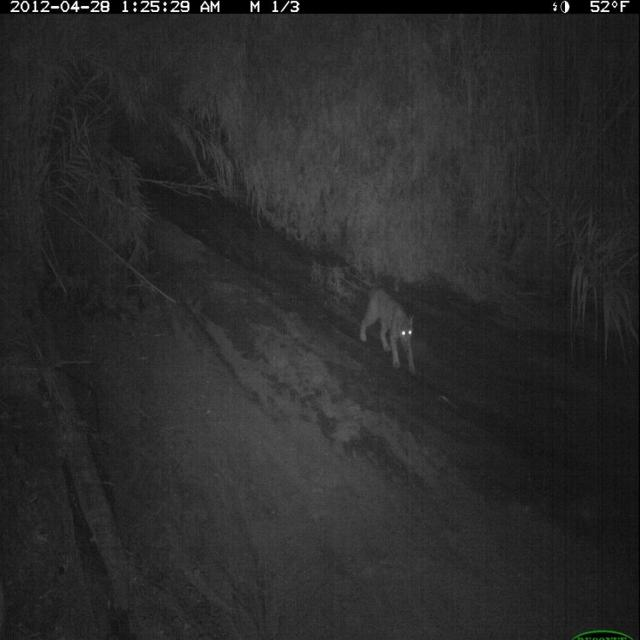bobcat: (357, 284, 421, 378)
